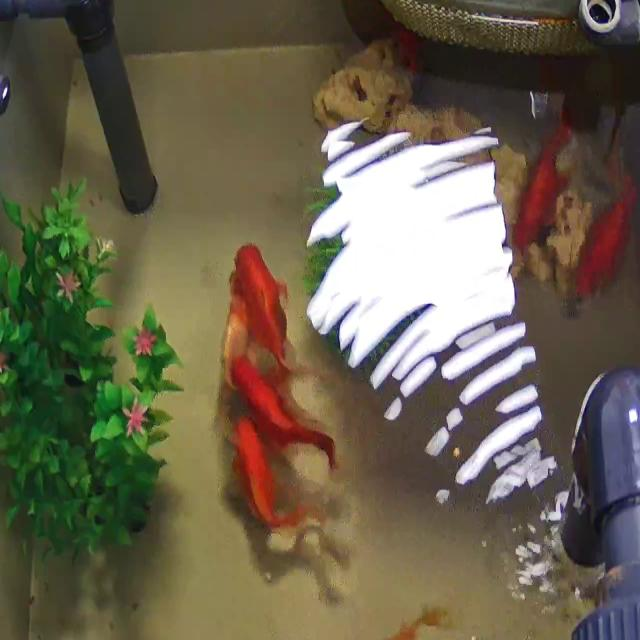fish: (238, 364, 355, 474), (236, 231, 304, 376), (227, 412, 308, 532), (572, 168, 638, 300), (513, 115, 573, 251), (211, 280, 256, 405), (364, 604, 448, 640)
